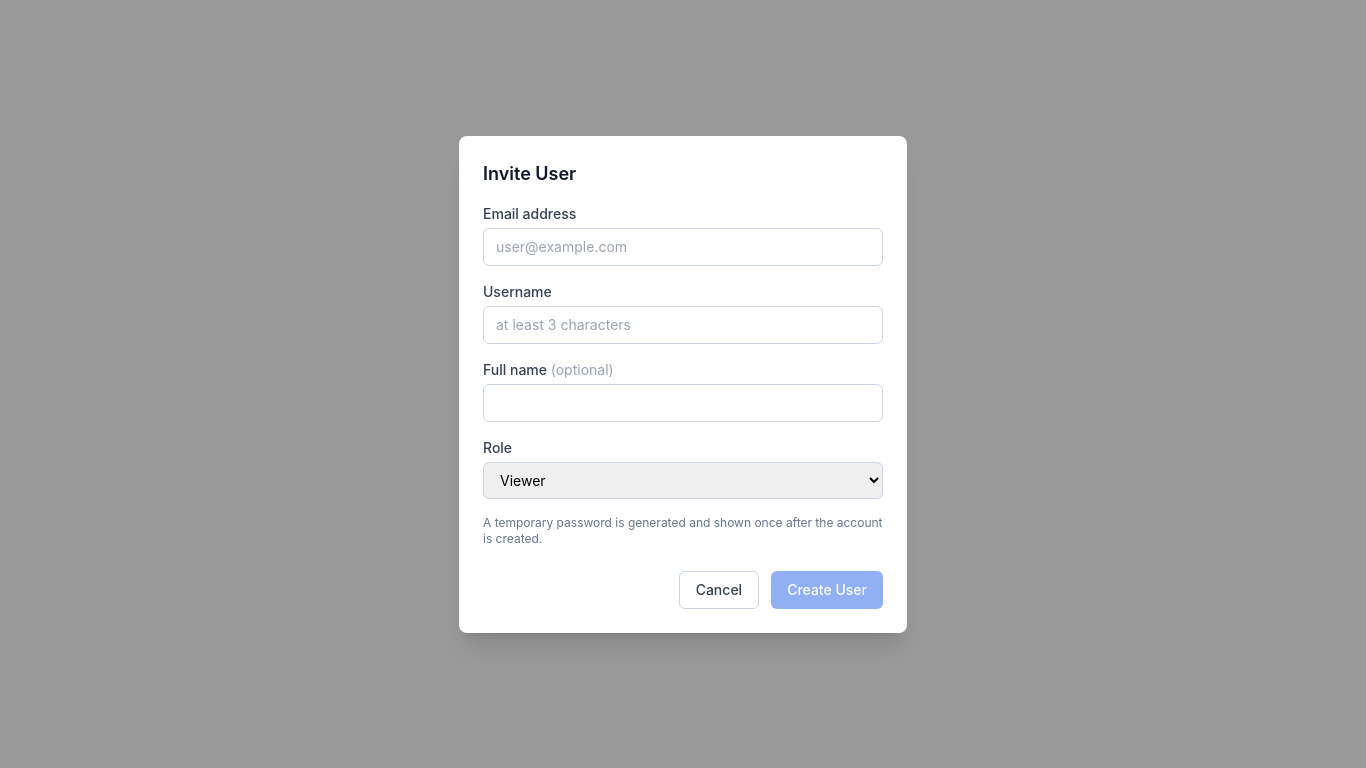
Scenario: InviteUserModal › shows the API error message when creation fails
Type "fail@example.com" into the field with test id "invite-email-input".
click(683, 246); type("fail@example.com")  # box [483,228,883,266]
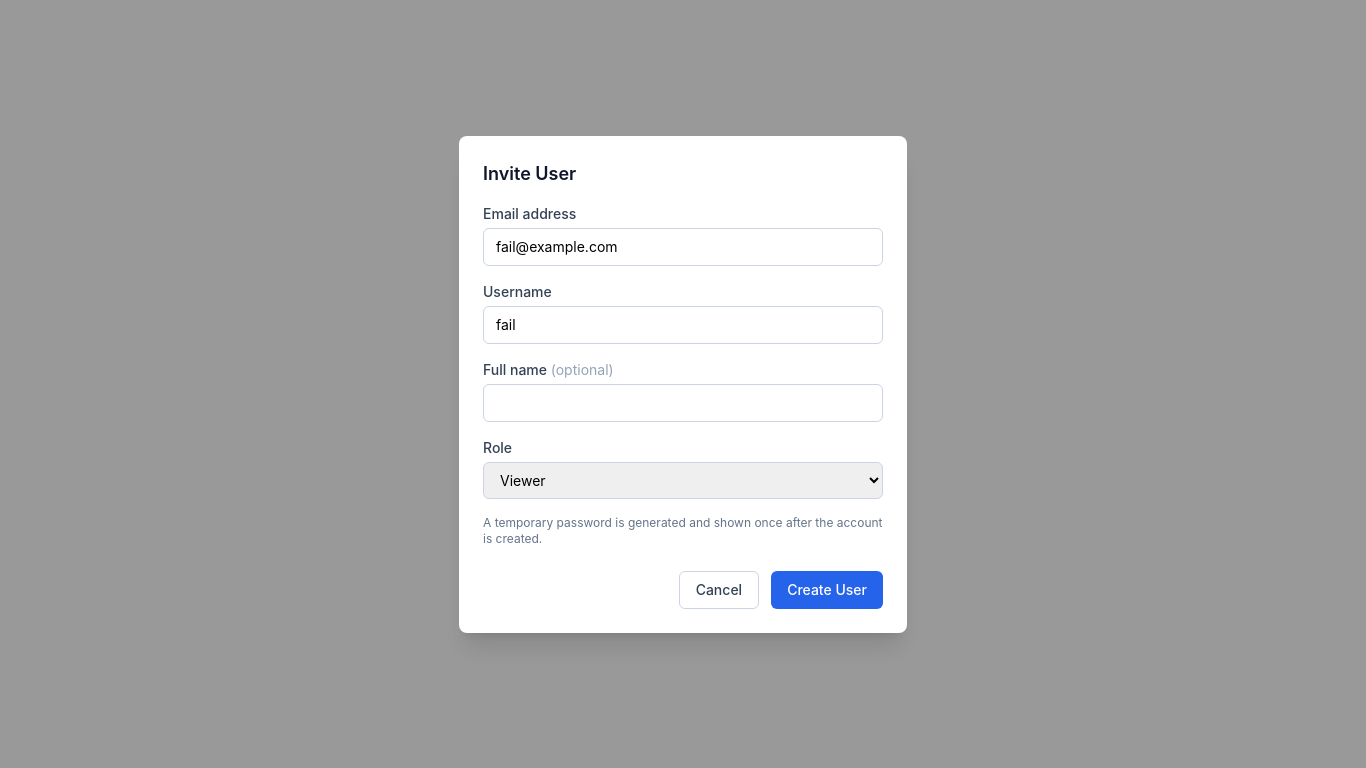
Click the button with test id "invite-submit-button".
click(827, 590)  # box [771,570,883,608]
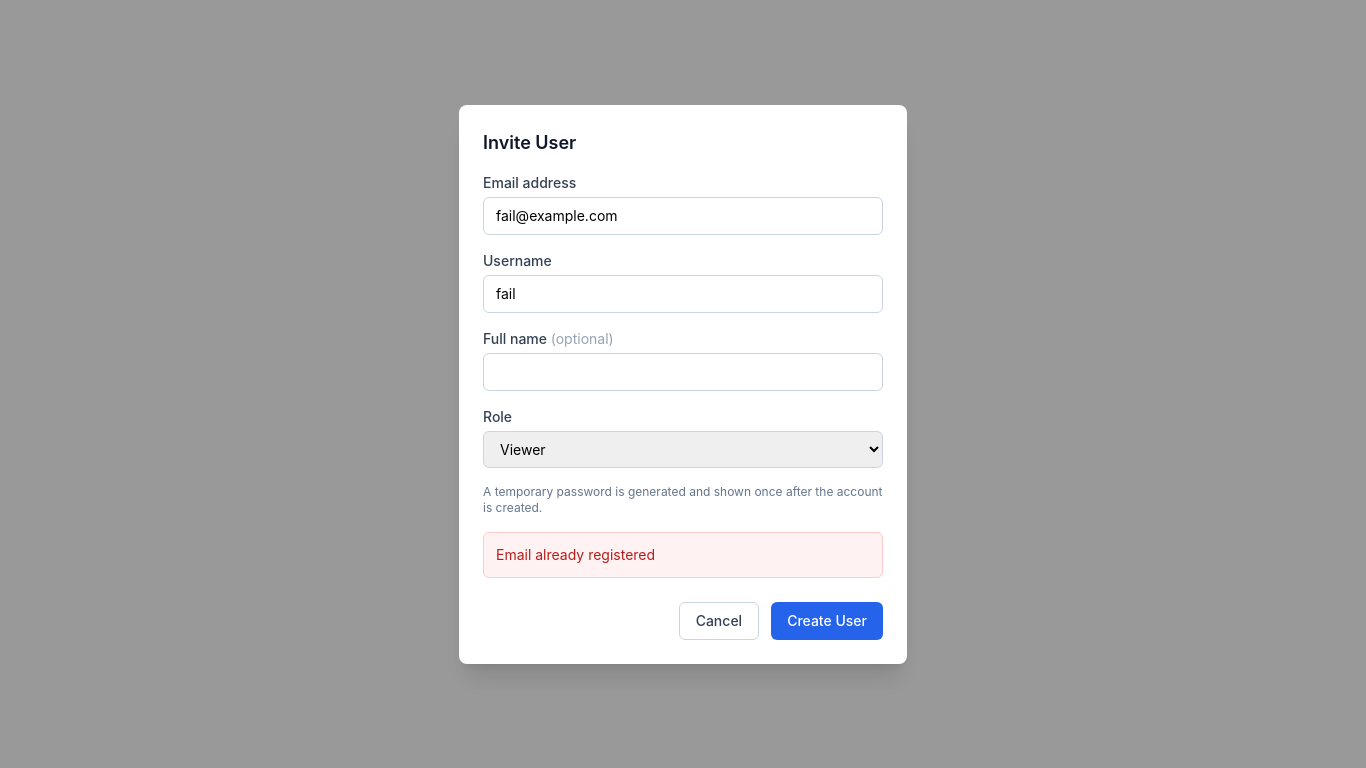
Result: the text with test id "invite-error-message" reads "Email already registered" at [496,546,655,562]
